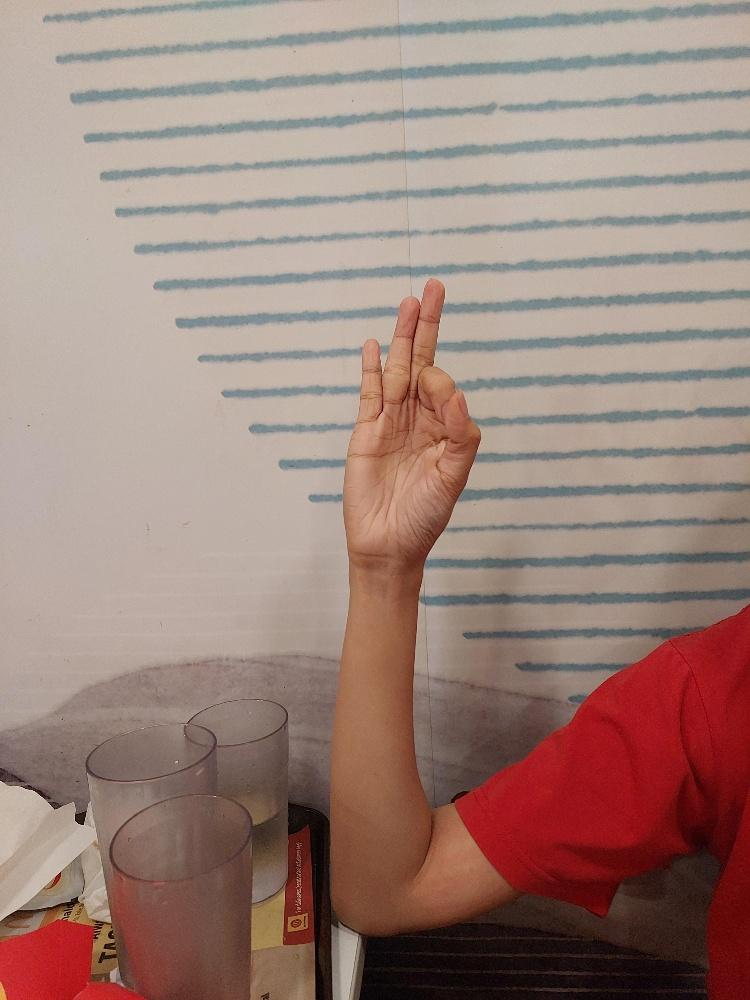f: (340, 275, 483, 570)
